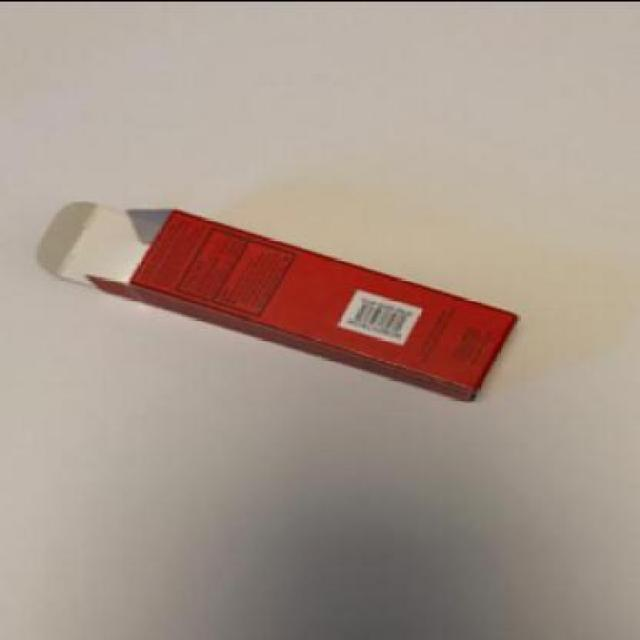box: (39, 200, 522, 398)
